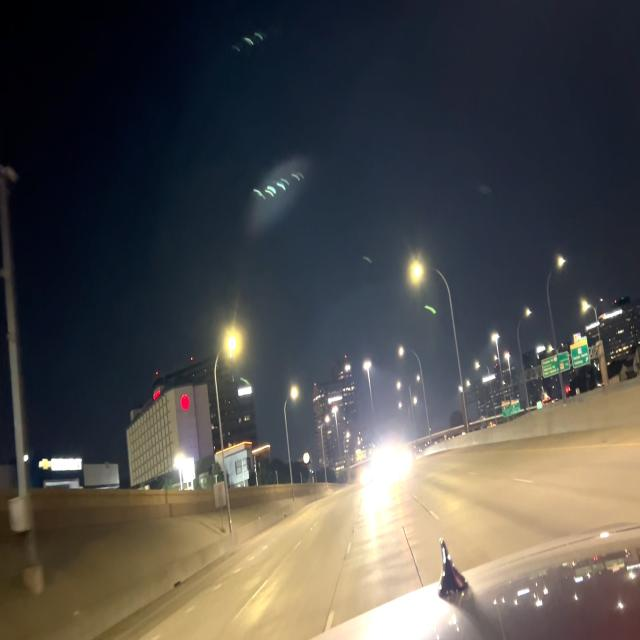back-of-sign: (214, 480, 227, 515)
